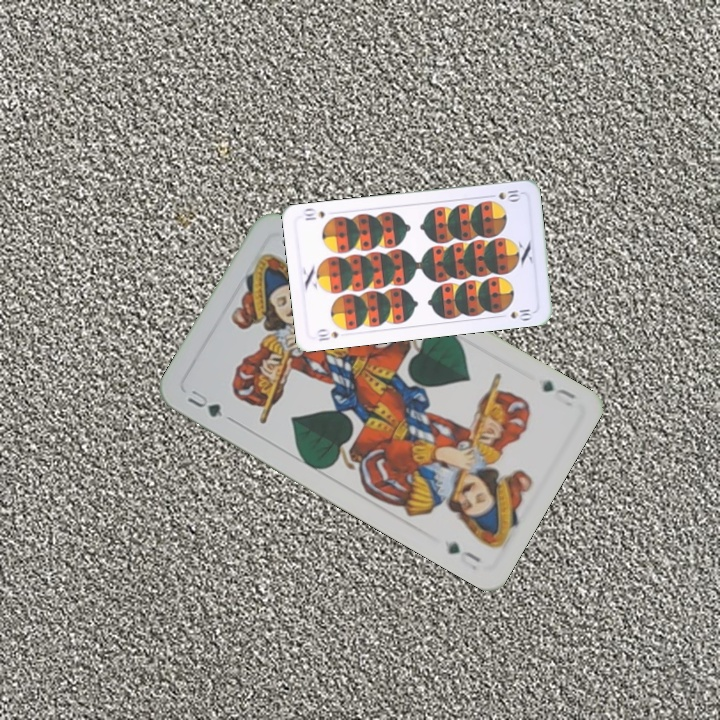GU: (183, 385, 225, 420), (538, 376, 579, 402)
S10: (484, 186, 524, 203), (313, 325, 341, 344)
